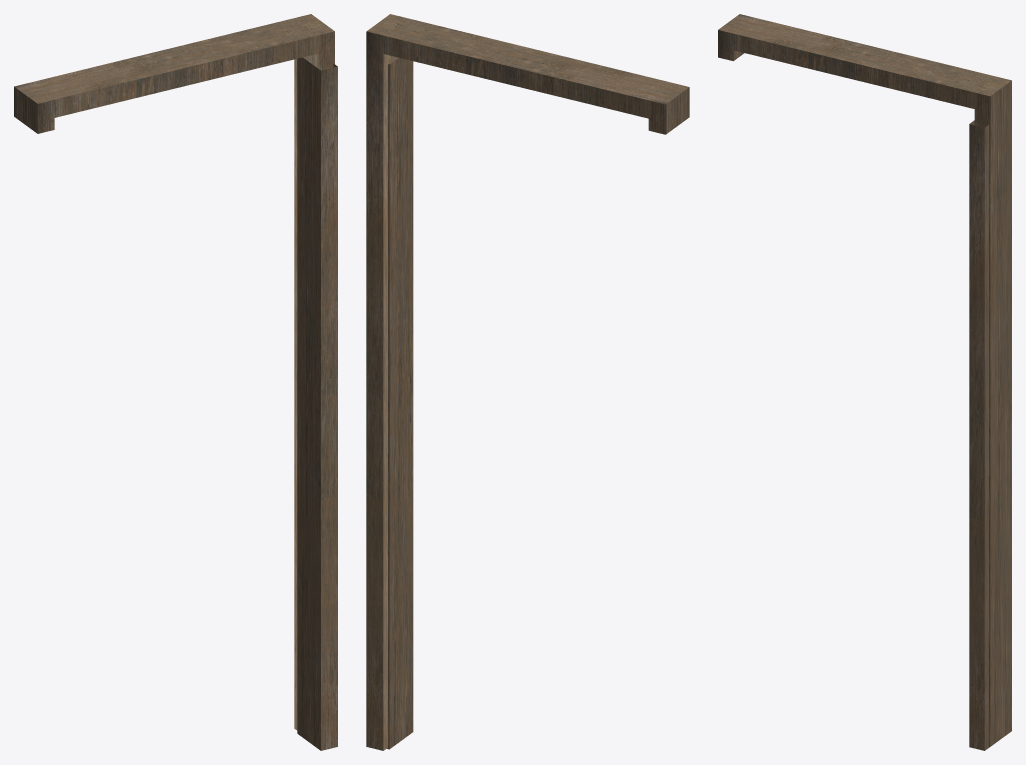
The model's file is DoorFrame.FBX.
3 renders of one model, left to right at view 1: azimuth 30°, elevation 25°; view 2: azimuth 150°, elevation 25°; view 3: azimuth 330°, elevation 25°, orthographic. The views are drawn at different scales.
Visible parts, largest first — view 1: Object001, frame06; view 2: frame06, Object001; view 3: frame06, Object001.
Part boxes in pixels (x1,y1,x2,y2): Object001: (297, 57, 337, 750); frame06: (14, 14, 334, 730); frame06: (366, 14, 689, 750); Object001: (387, 58, 413, 749); frame06: (718, 14, 1011, 746); Object001: (969, 120, 989, 750).
Size of the model in its own units: 0.281 by 0.6432 by 0.0462.
1 material, 1 textured.
